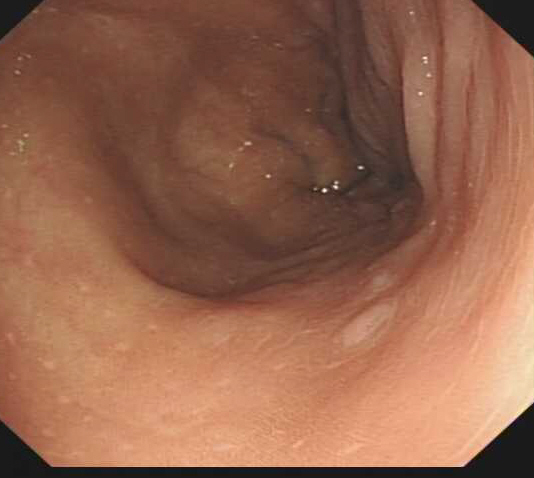others: (338, 296, 398, 348)
